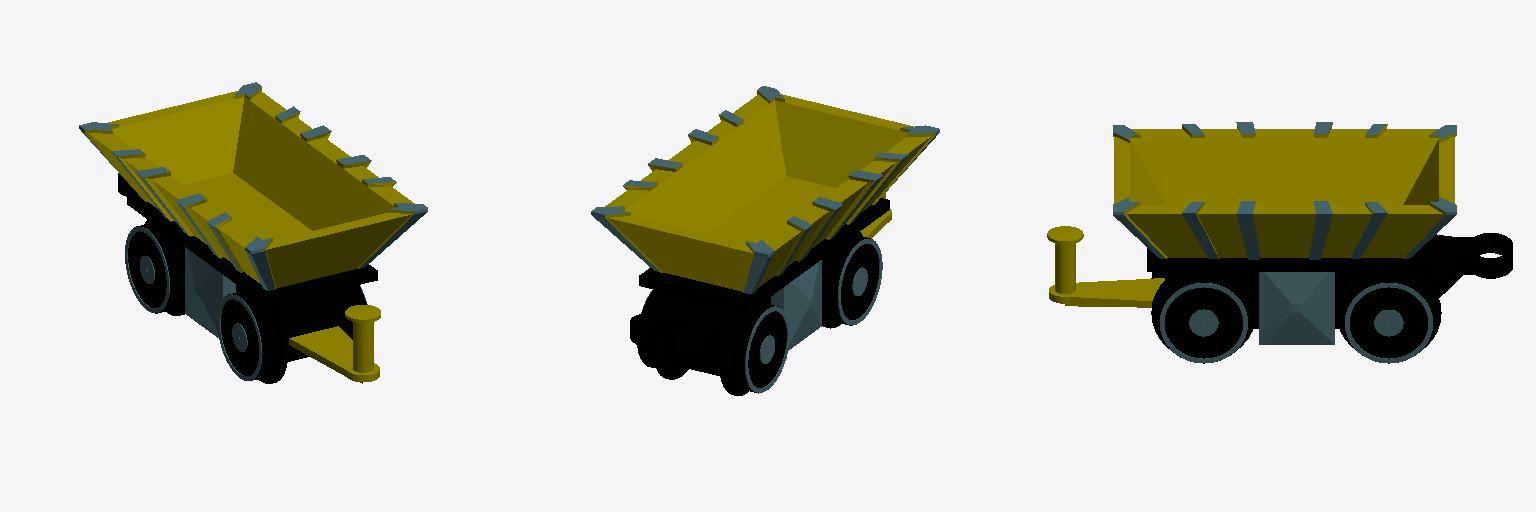
Rendered from ToyTrainFinal2.obj.
The picture shows the model from 3 angles: view 1: azimuth 30°, elevation 25°; view 2: azimuth 150°, elevation 25°; view 3: azimuth 270°, elevation 25°; orthographic projection.
Parts seen in each view (by area): view 1: Cube.001_Cube.011, Wheel.005_Cylinder.014, Wheel.004_Cylinder.016, Platform.001_Cube.010, Rear_Hook.001_Cylinder.015, Cube.003_Cube.012, Axle_Box.001_Cube.008, Wheel.007_Cylinder.012; view 2: Cube.001_Cube.011, Wheel.004_Cylinder.016, Wheel.005_Cylinder.014, Platform.001_Cube.010, Cylinder.009_Cylinder.017, Cube.003_Cube.012, Axle_Box.001_Cube.008, Wheel.006_Cylinder.013; view 3: Cube.001_Cube.011, Wheel.007_Cylinder.012, Wheel.006_Cylinder.013, Cube.003_Cube.012, Rear_Hook.001_Cylinder.015, Platform.001_Cube.010, Cylinder.009_Cylinder.017, Axle_Box.001_Cube.008.
Boxes of the visible parts, x1,y1,x2,y2 form: Cube.001_Cube.011: [79, 82, 427, 290]; Wheel.005_Cylinder.014: [217, 288, 288, 383]; Wheel.004_Cylinder.016: [125, 219, 184, 315]; Platform.001_Cube.010: [127, 192, 377, 306]; Rear_Hook.001_Cylinder.015: [289, 305, 380, 383]; Cube.003_Cube.012: [185, 247, 235, 337]; Axle_Box.001_Cube.008: [236, 285, 343, 361]; Wheel.007_Cylinder.012: [344, 285, 367, 339]; Cube.001_Cube.011: [591, 86, 939, 293]; Wheel.004_Cylinder.016: [719, 299, 789, 395]; Wheel.005_Cylinder.014: [822, 232, 882, 328]; Platform.001_Cube.010: [639, 198, 889, 312]; Cylinder.009_Cylinder.017: [630, 296, 718, 357]; Cube.003_Cube.012: [771, 260, 821, 350]; Axle_Box.001_Cube.008: [662, 292, 770, 375]; Wheel.006_Cylinder.013: [637, 290, 688, 379]; Cube.001_Cube.011: [1113, 122, 1456, 259]; Wheel.007_Cylinder.012: [1151, 272, 1256, 363]; Wheel.006_Cylinder.013: [1336, 272, 1441, 363]; Cube.003_Cube.012: [1259, 272, 1334, 344]; Rear_Hook.001_Cylinder.015: [1047, 226, 1164, 307]; Platform.001_Cube.010: [1147, 242, 1427, 271]; Cylinder.009_Cylinder.017: [1433, 233, 1512, 297]; Axle_Box.001_Cube.008: [1165, 238, 1432, 328].
Size of the model in its own units: 9.64 by 8.64 by 20.64.